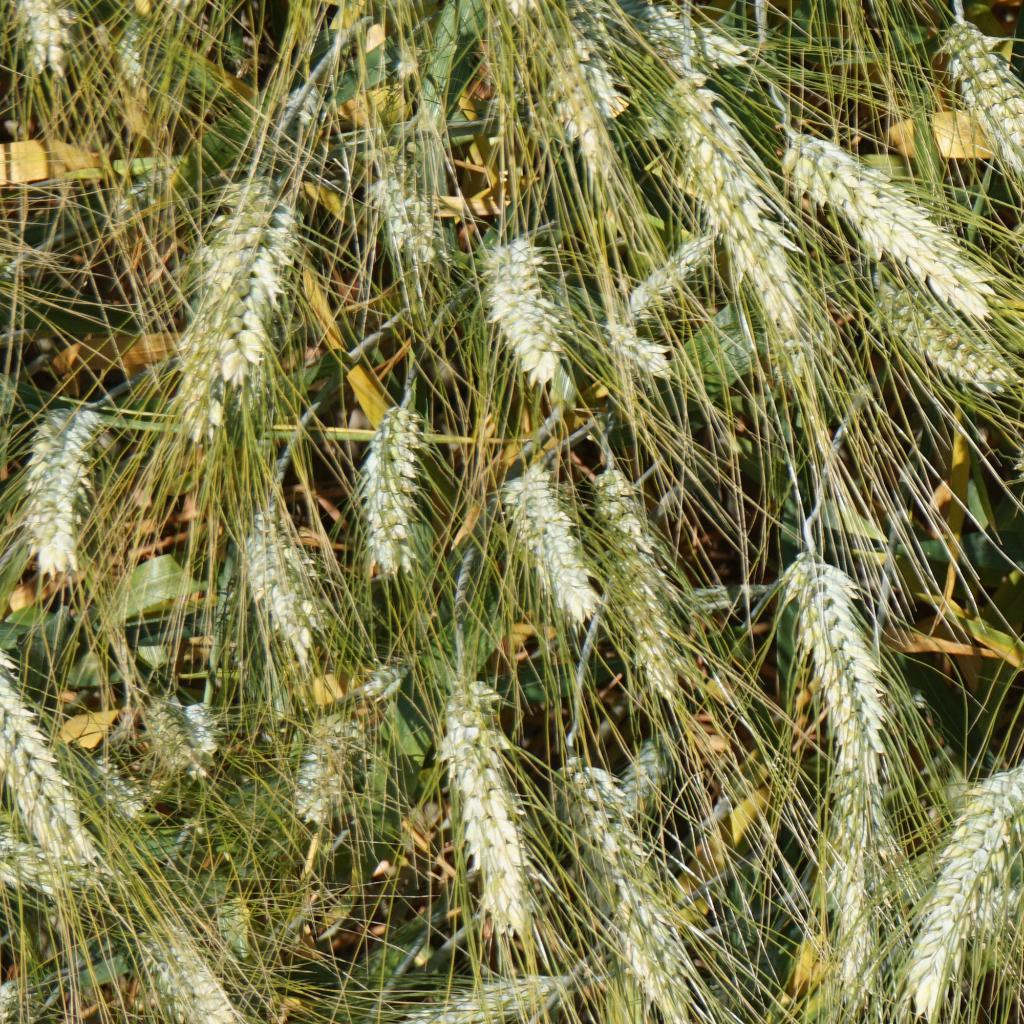0-0: (778, 125, 997, 306), (551, 751, 705, 1006), (432, 681, 538, 946), (777, 532, 888, 741), (925, 762, 1024, 993), (591, 450, 687, 686), (663, 77, 775, 279), (0, 662, 105, 852), (178, 167, 248, 422), (814, 750, 879, 1016), (858, 279, 1014, 389), (504, 463, 601, 615), (944, 10, 1024, 192), (483, 230, 572, 384), (353, 401, 422, 576), (238, 192, 302, 373), (128, 914, 233, 1024), (28, 404, 97, 571), (398, 958, 572, 1024), (243, 502, 316, 656), (544, 33, 630, 154), (611, 230, 729, 318), (360, 157, 440, 269), (615, 0, 751, 65), (294, 713, 363, 819), (596, 309, 675, 389), (99, 9, 169, 99), (137, 692, 211, 775), (0, 833, 98, 892), (610, 744, 672, 834), (8, 0, 75, 80), (96, 754, 162, 816), (115, 158, 178, 221), (973, 875, 1024, 935), (357, 651, 407, 705), (541, 0, 614, 33)
